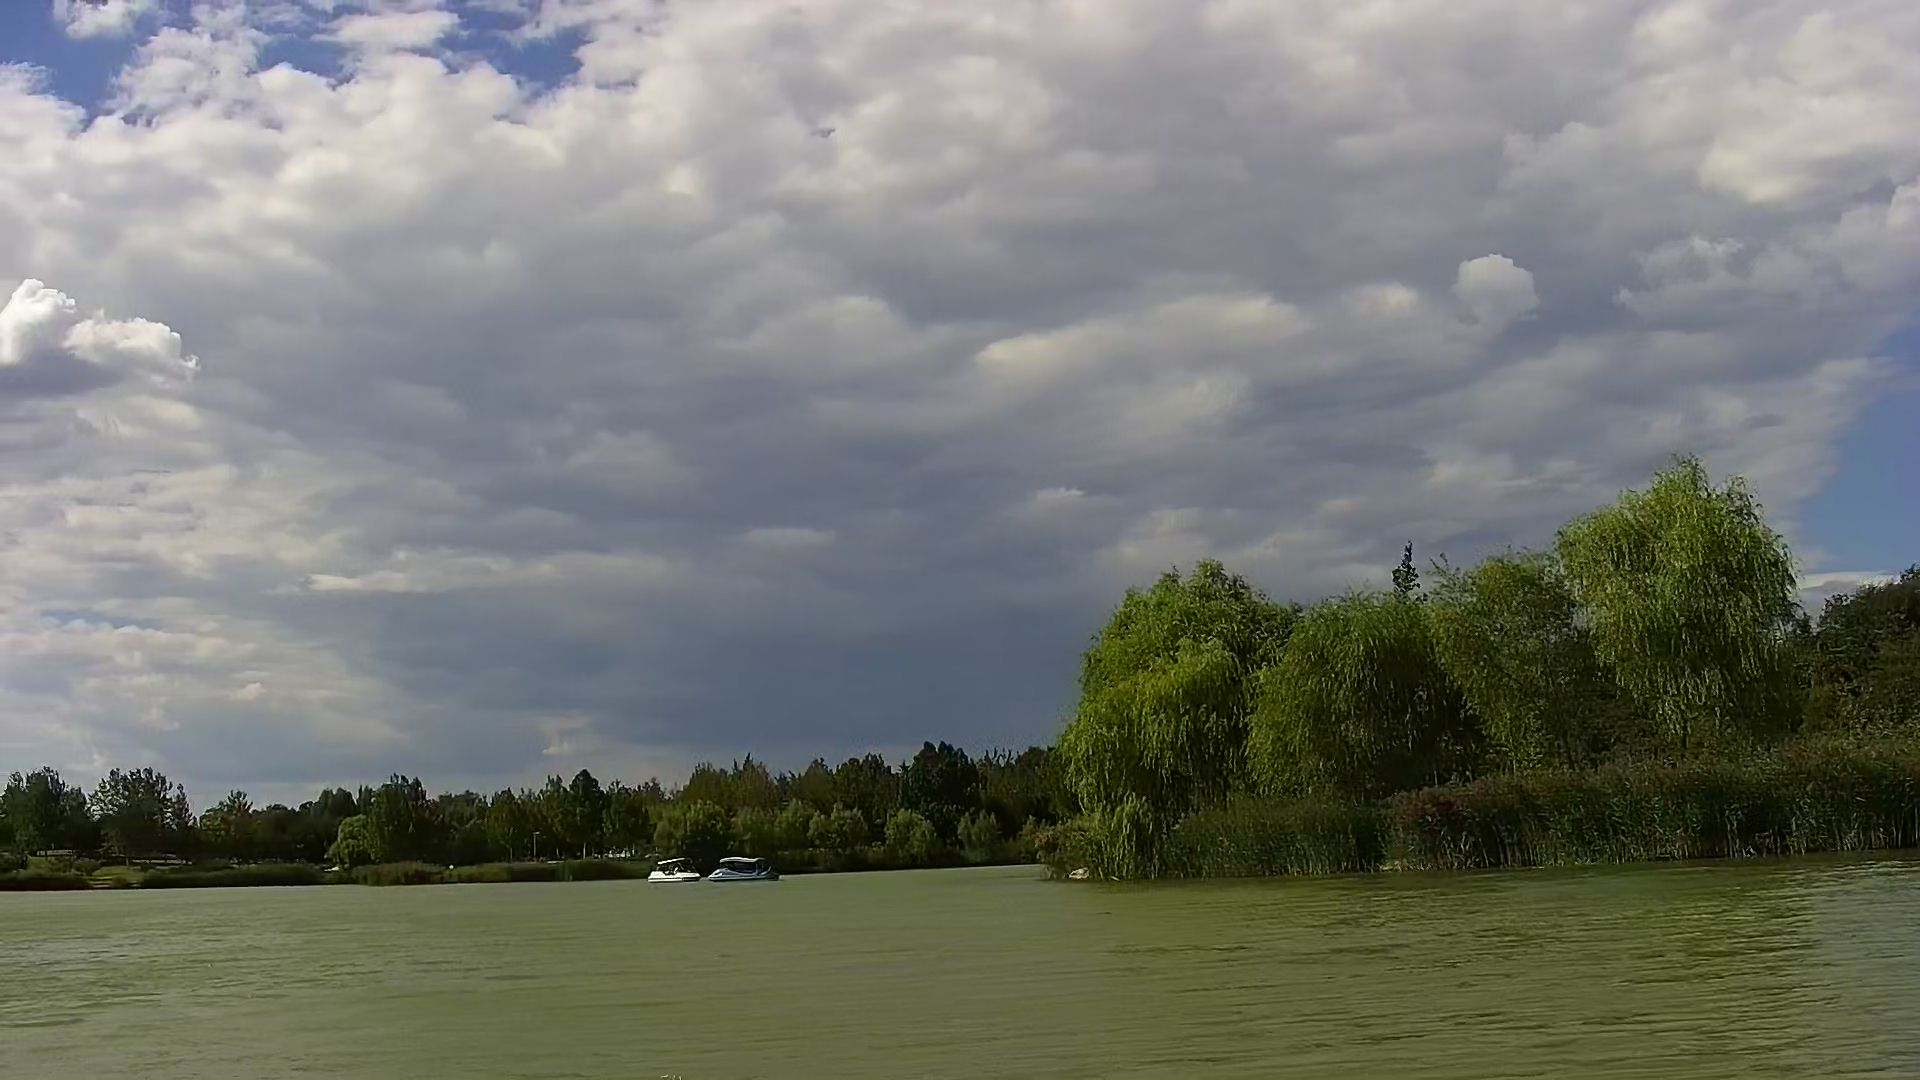boat: (709, 851, 782, 885), (644, 856, 700, 885)
rock: (1064, 865, 1091, 884)
